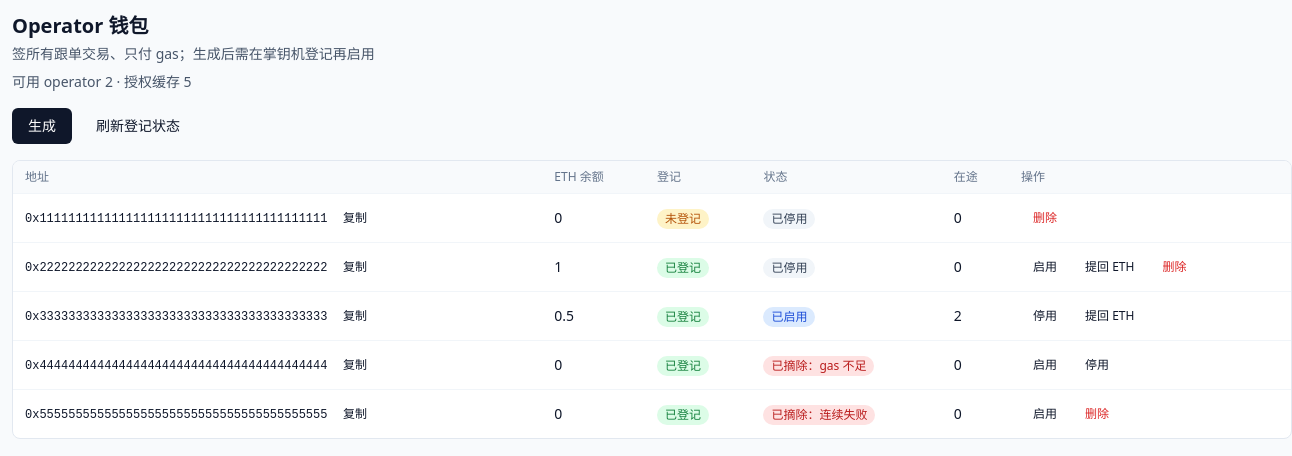
Test: generates an operator, toasts the shortened address and refreshes the list
Expected: the text "0x1111111111111111111111111111111111111111" is shown, [25,212,328,226]
Click the button "生成" at (42, 126), box [12,108,72,144]
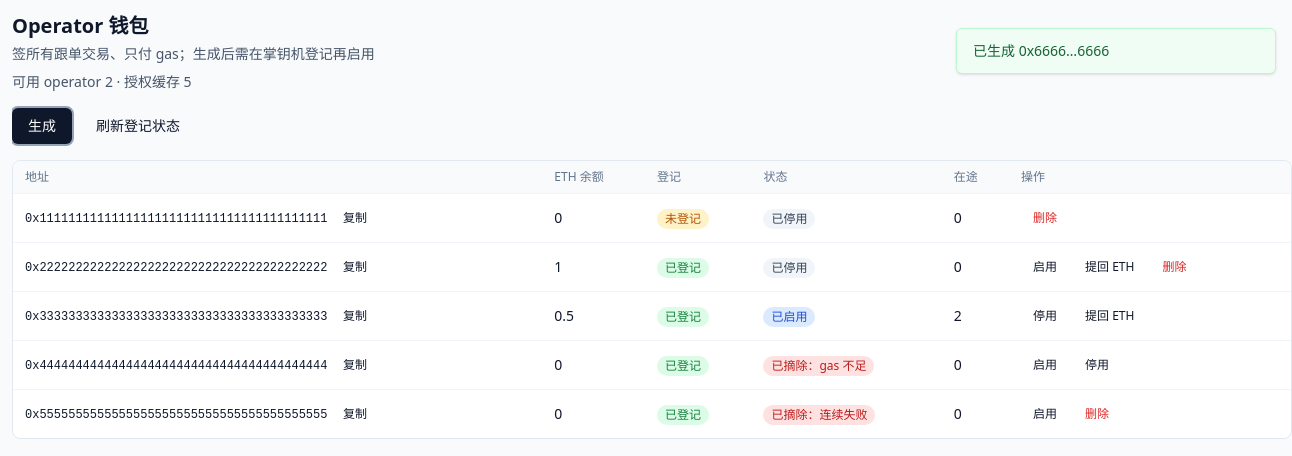
Expected: the text "已生成 0x6666…6666" is shown, [956,28,1276,74]
